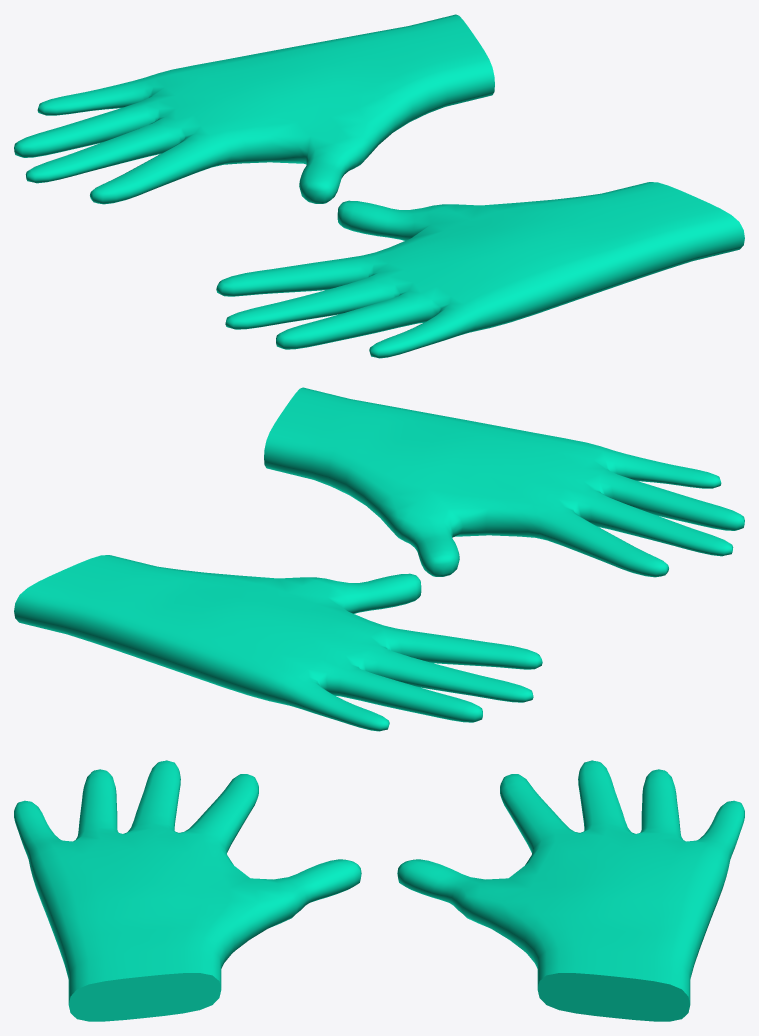
Rendered from gloves.fbx.
3 views of the same model, one above another, from view 1: azimuth 30°, elevation 25°; view 2: azimuth 150°, elevation 25°; view 3: azimuth 270°, elevation 25° (orthographic). The views are drawn at different scales.
Parts seen in each view (by area): view 1: Cube, Cube.001; view 2: Cube.001, Cube; view 3: Cube, Cube.001.
Part boxes in pixels (bbox=[...]): Cube: bbox=[216, 182, 744, 358]; Cube.001: bbox=[14, 14, 494, 204]; Cube.001: bbox=[14, 555, 542, 731]; Cube: bbox=[264, 387, 744, 577]; Cube: bbox=[14, 760, 361, 1021]; Cube.001: bbox=[397, 760, 744, 1021].
Size of the model in its own units: 587 by 50.98 by 736.
